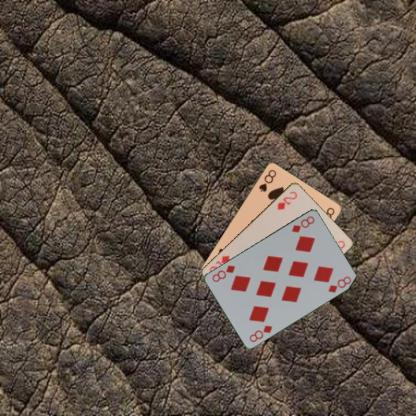2d: (275, 188, 298, 211)
8d: (247, 323, 274, 344), (289, 214, 316, 234)
8s: (256, 167, 277, 193)
